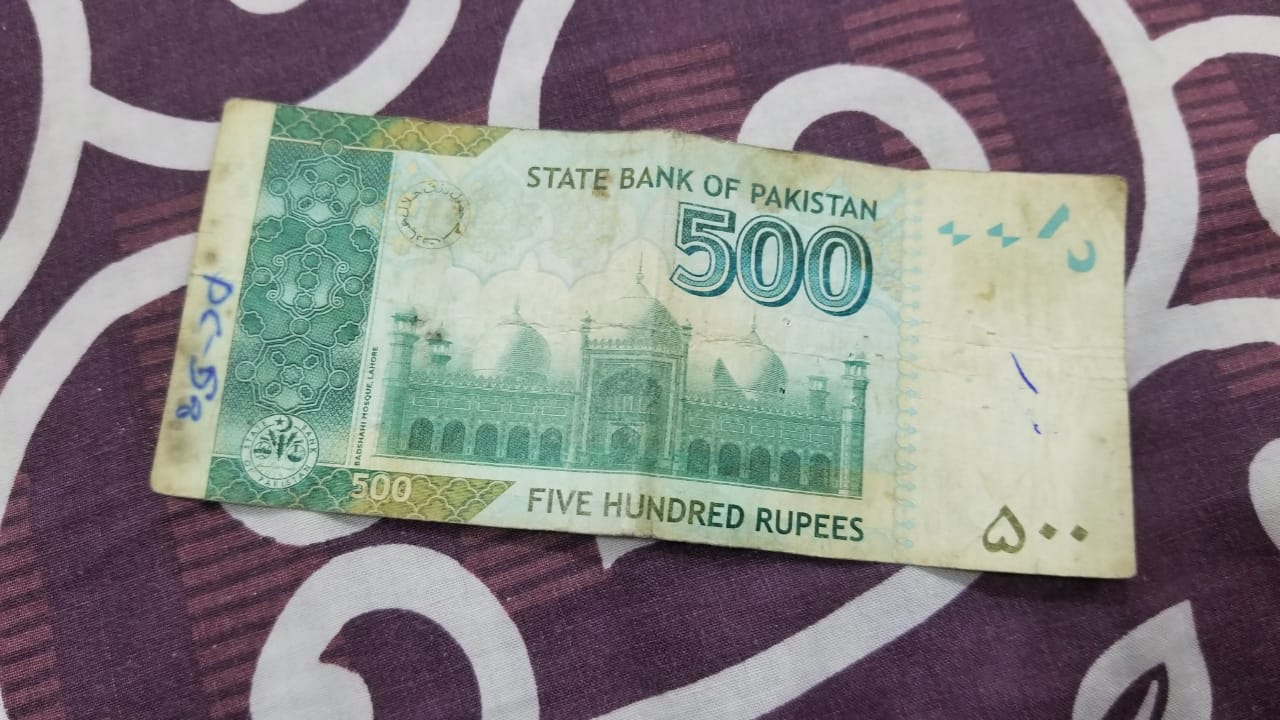500 rupee: (89, 73, 1163, 622)
